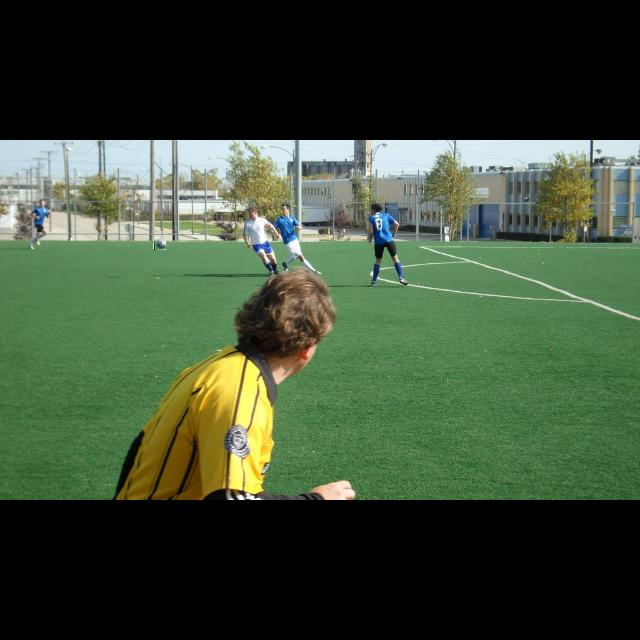Football: (154, 238, 166, 250)
